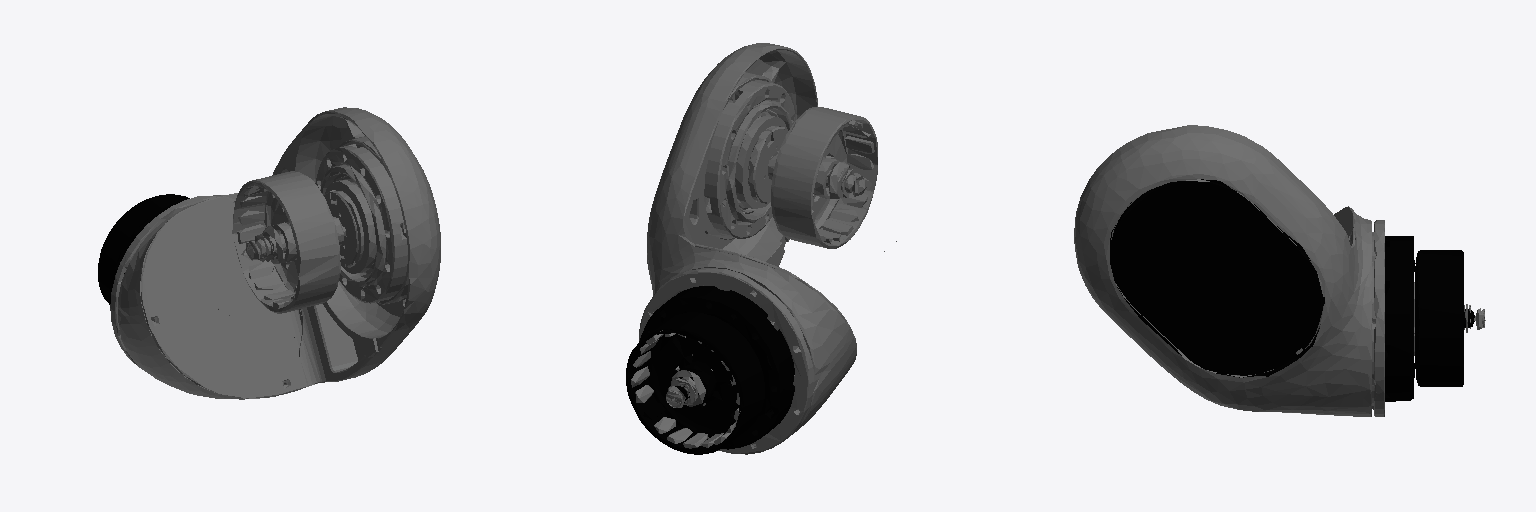
The model's file is right_upper_arm_roll_link.obj.
3 renders of one model, left to right at view 1: azimuth 30°, elevation 25°; view 2: azimuth 150°, elevation 25°; view 3: azimuth 270°, elevation 25°, orthographic.
Visible parts, largest first — view 1: right_upper_arm_roll_link; view 2: right_upper_arm_roll_link; view 3: right_upper_arm_roll_link.
Boxes of the visible parts, x1,y1,x2,y2 form: right_upper_arm_roll_link: [98, 107, 440, 399]; right_upper_arm_roll_link: [626, 43, 896, 454]; right_upper_arm_roll_link: [1074, 125, 1485, 416].
Bounding box in the file's own units: 0.0712 × 0.1079 × 0.1291.